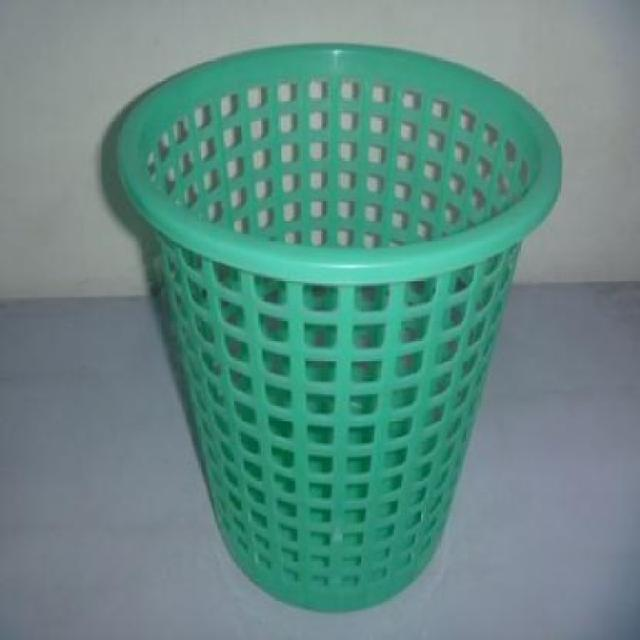dustbin: (110, 35, 568, 617)
